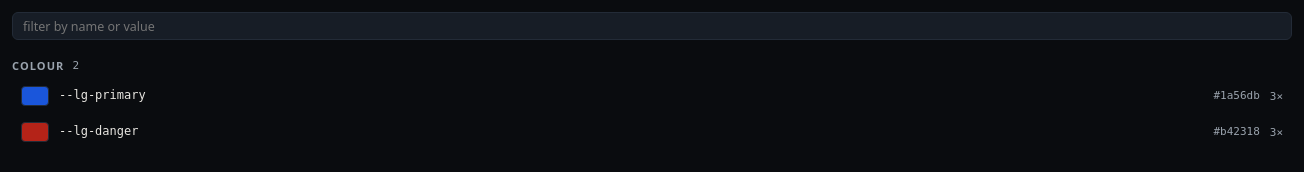
it: GaugesPanel › renders exactly one printed affordance even when the filter is set AND a gauge is lit — and it clears both
Type "danger" into the search field named "filter gauges".
click(652, 26); type("danger")  # box 12,12 -> 1292,40
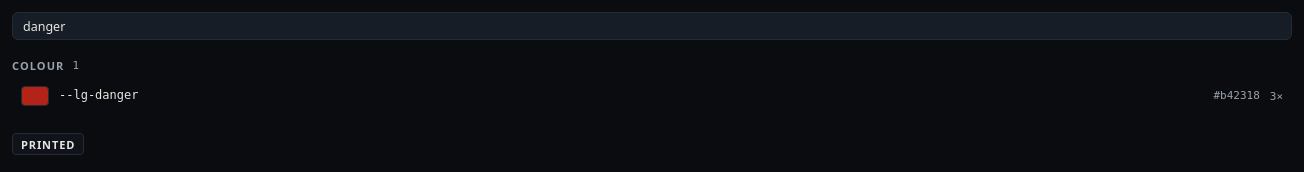
Click the button "--lg-danger #b42318 3×".
click(99, 95)  # box 12,79 -> 1292,113
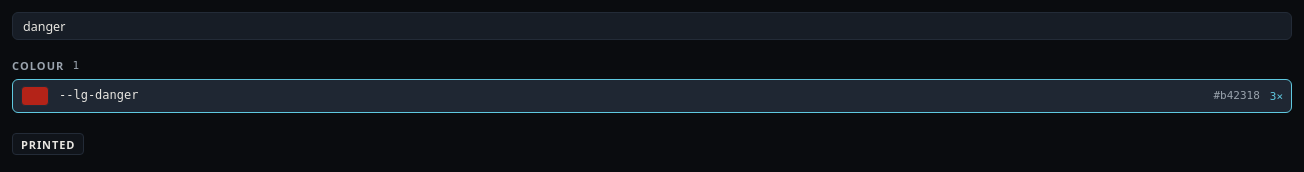
Now the number of buttons "printed" is 1
Click the button "printed".
click(48, 144)  # box 12,133 -> 84,155
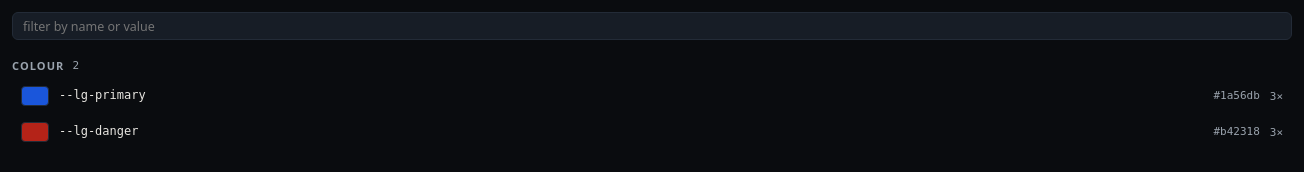
Now the button "printed" is gone
Now the search field named "filter gauges" is empty, box 12,12 -> 1292,40
Now the text "--lg-primary" is shown, box 59,88 -> 146,102
